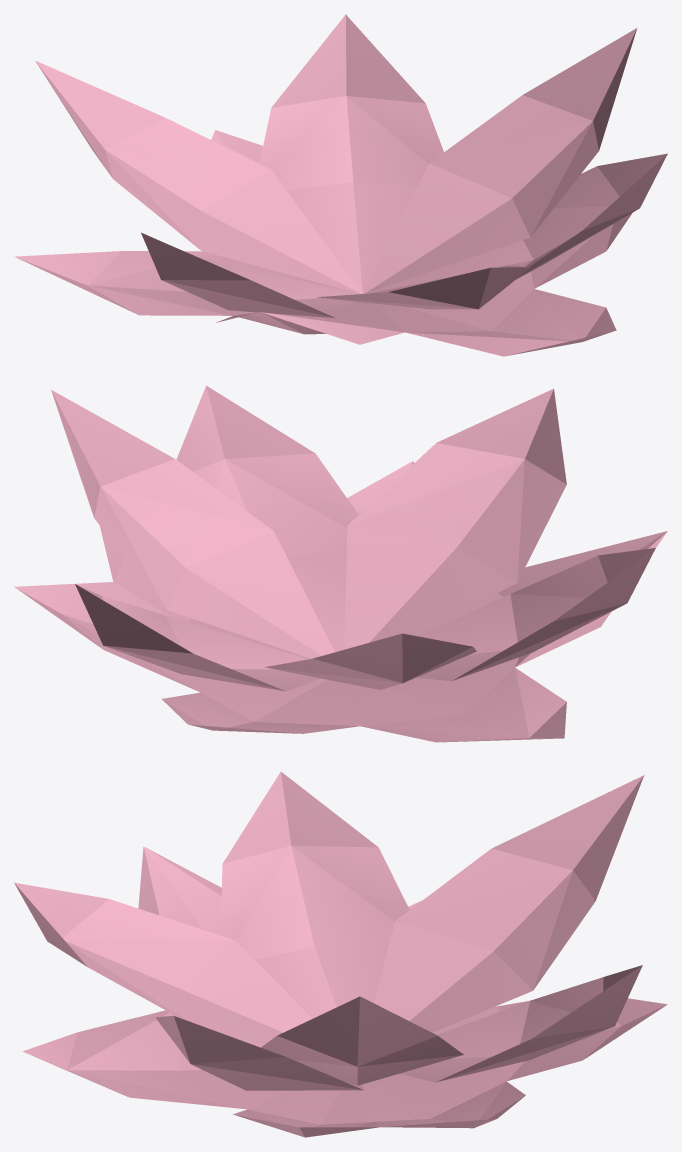
File: lotus_pink.glb
3 renders of one model, top to bottom at view 1: azimuth 30°, elevation 25°; view 2: azimuth 150°, elevation 25°; view 3: azimuth 270°, elevation 25°, orthographic. The views are drawn at different scales.
Parts seen in each view (by area): view 1: Water Lily Flower_B; view 2: Water Lily Flower_B; view 3: Water Lily Flower_B.
Part boxes in pixels (x1,y1,x2,y2): Water Lily Flower_B: (14,14,667,356); Water Lily Flower_B: (14,385,667,742); Water Lily Flower_B: (14,771,667,1137).
Size of the model in its own units: 0.35 by 0.12 by 0.34.
Materials: 1 (1 with a texture image).
